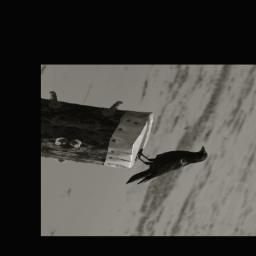Crow: (121, 136, 214, 195)
